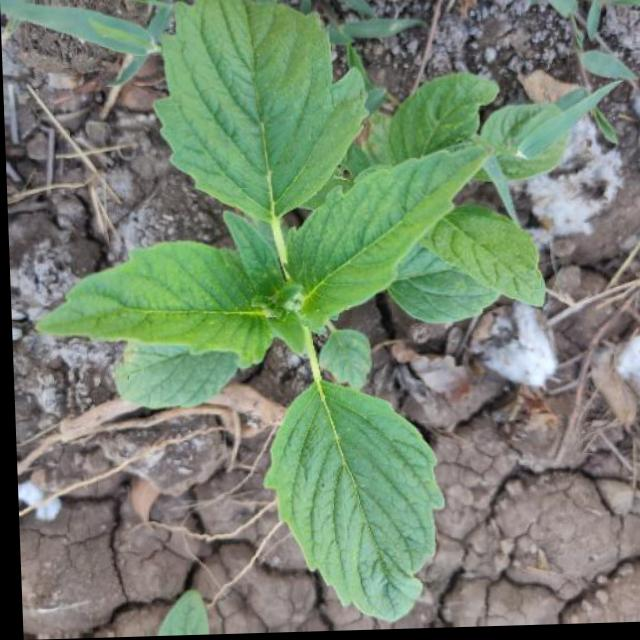crop: (27, 0, 500, 639)
